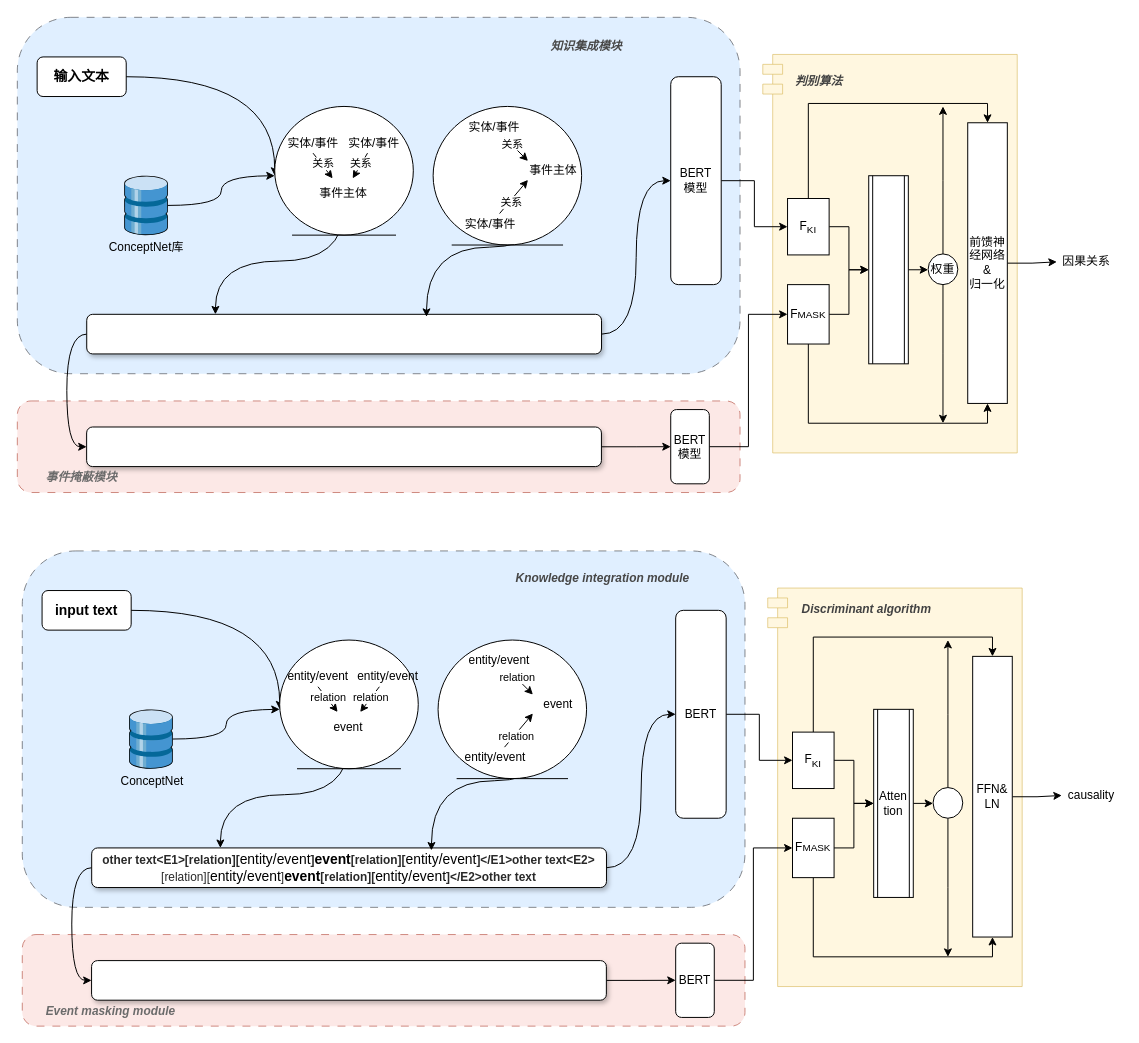
Image size: 1139x1043. Some labels were removed from this diagram. The centre of each missing label's shape, as x and y in pixels:
"alpha" goes at (947,802).
"other text[MASK]other text[MASK]other text" goes at (349,981).
"文本<E1>[关系][实体] 事件 [关系][实体]</E1>文本<E2>[关系][实体] 事件 [关系][实体]</E2>文本" goes at (344,335).
"文本[MASK]文本[MASK]文本" goes at (344,448).
"注意力机制" goes at (888,269).
